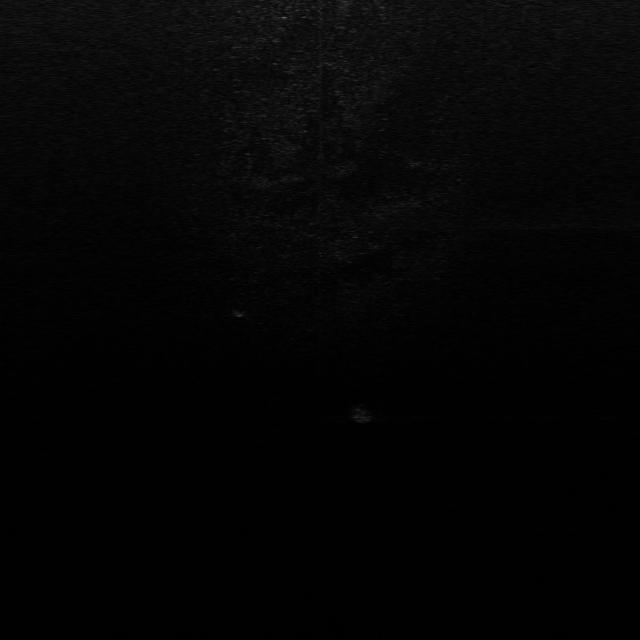ball: (349, 401, 377, 424)
circle cage: (226, 296, 252, 318)
